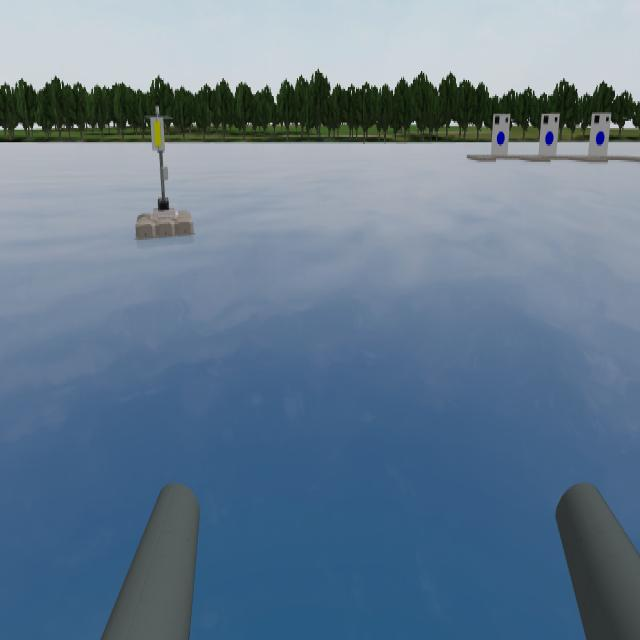yellow_pole: (142, 102, 178, 154)
